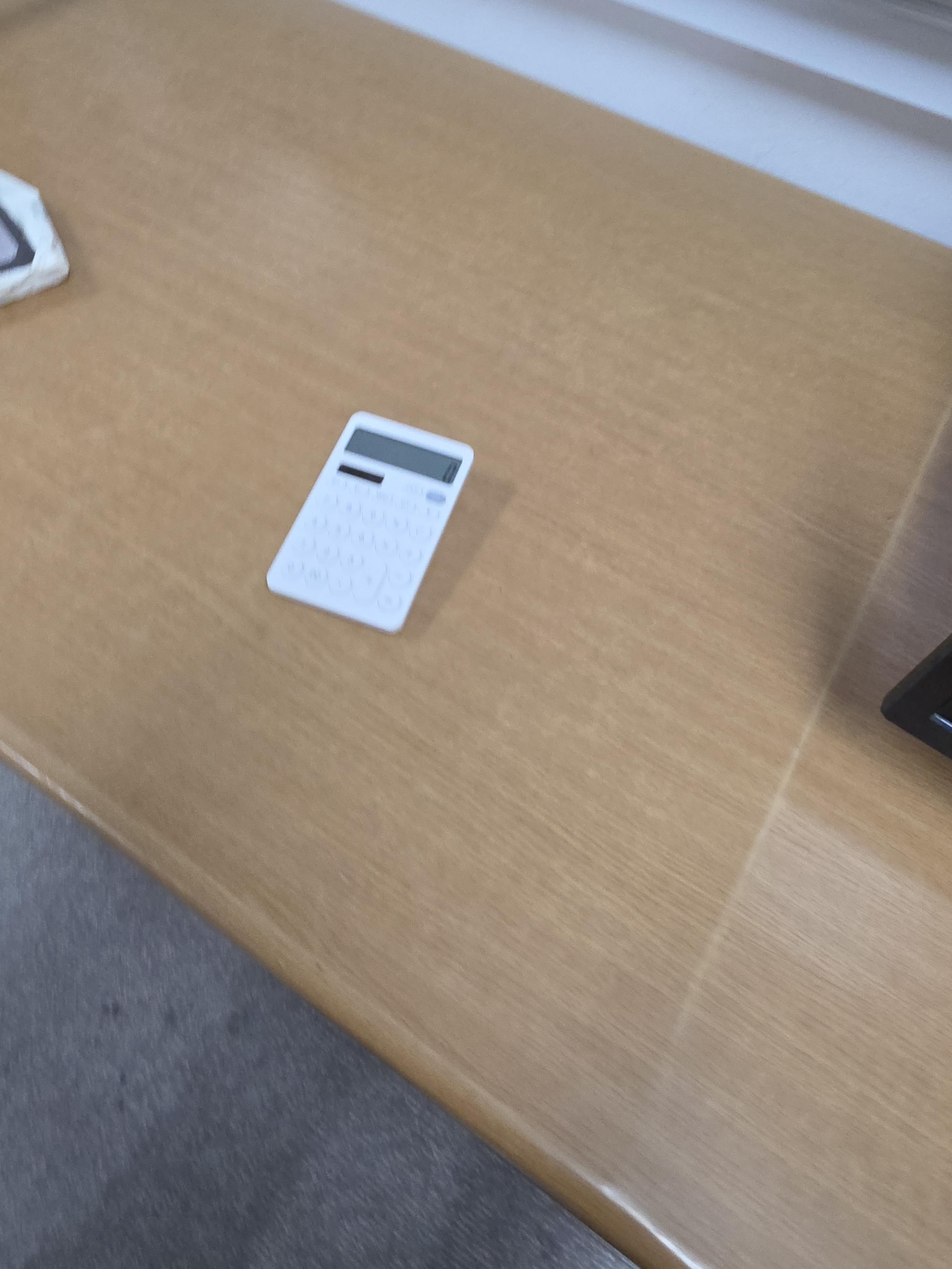calculator: (265, 410, 475, 634)
